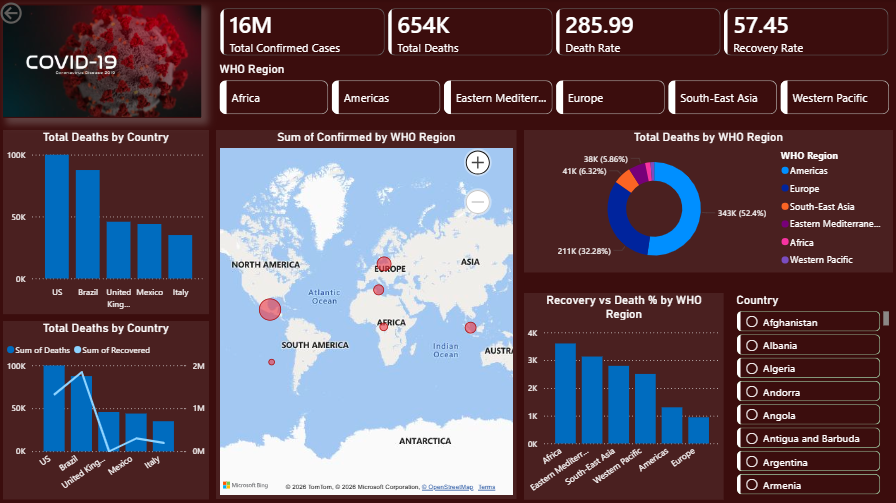

The dashboard page shown, as its layout file describes it:
{"tool":"powerbi","page":{"name":"Page 1","canvas":[1280,720],"ordinal":0},"visuals":[{"type":"image","box":[8.4,6.7,280.5,161.3],"z":0},{"type":"cardVisual","fields":{"Data":["Sum(covid----19.Confirmed)","Sum(covid----19.Deaths)","covid----19.Death Rate","covid----19.Recovery Rate"]},"box":[310.6,7.2,959.3,79.5],"z":1000},{"type":"columnChart","title":"Total Deaths by Country","fields":{"Category":["covid----19.Country"],"Y":["Sum(covid----19.Deaths)"]},"box":[8.7,186.4,291.8,261.5],"z":2000},{"type":"lineStackedColumnComboChart","title":"Total Deaths by Country","fields":{"Category":["covid----19.Country"],"Y":["Sum(covid----19.Deaths)"],"Y2":["Sum(covid----19.Recovered)"]},"box":[8.7,456.5,291.8,252.8],"z":3000},{"type":"map","fields":{"Size":["Sum(covid----19.Confirmed)"],"Category":["covid----19.WHO Region"]},"box":[310.6,186.4,426.2,523],"z":4000},{"type":"advancedSlicerVisual","fields":{"Values":["covid----19.WHO Region"]},"box":[310.6,89.6,959.3,79.5],"z":5000},{"type":"listSlicer","fields":{"Values":["covid----19.Country"]},"box":[1043.1,416.1,226.8,293.3],"z":5001},{"type":"actionButton","box":[0,0,100,40],"z":5002},{"type":"donutChart","fields":{"Y":["covid----19.Total Death"],"Category":["covid----19.WHO Region"]},"box":[746.9,186.4,523,202.3],"z":5003},{"type":"clusteredColumnChart","fields":{"Y":["covid----19.Recovery vs Death %"],"Category":["covid----19.WHO Region"]},"box":[746.9,416.1,283.2,293.3],"z":5004}]}

Visuals, with their boxes in screenshot pixels (x1, y1, x2, y2), scaled from the page's 1280x720 canvas onto the 896x503 screenshot:
image: region(6, 5, 202, 117)
cardVisual - Sum(covid----19.Confirmed) x Sum(covid----19.Deaths): region(217, 5, 889, 61)
"Total Deaths by Country" columnChart: region(6, 130, 210, 313)
"Total Deaths by Country" lineStackedColumnComboChart: region(6, 319, 210, 496)
map - Sum(covid----19.Confirmed) x covid----19.WHO Region: region(217, 130, 516, 496)
advancedSlicerVisual - covid----19.WHO Region: region(217, 63, 889, 118)
listSlicer - covid----19.Country: region(730, 291, 889, 496)
actionButton: region(0, 0, 70, 28)
donutChart - covid----19.Total Death x covid----19.WHO Region: region(523, 130, 889, 272)
clusteredColumnChart - covid----19.Recovery vs Death % x covid----19.WHO Region: region(523, 291, 721, 496)
